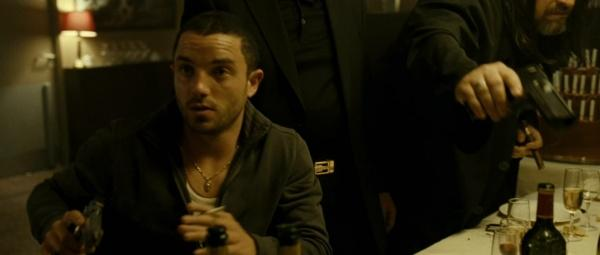Gun: (504, 64, 577, 131)
